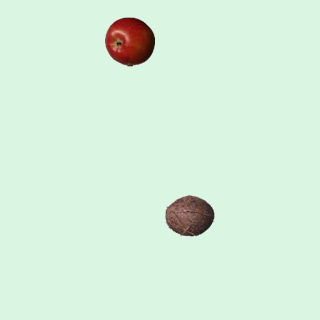Apple Braeburn: (104, 16, 154, 66)
Cocos: (164, 190, 214, 240)
